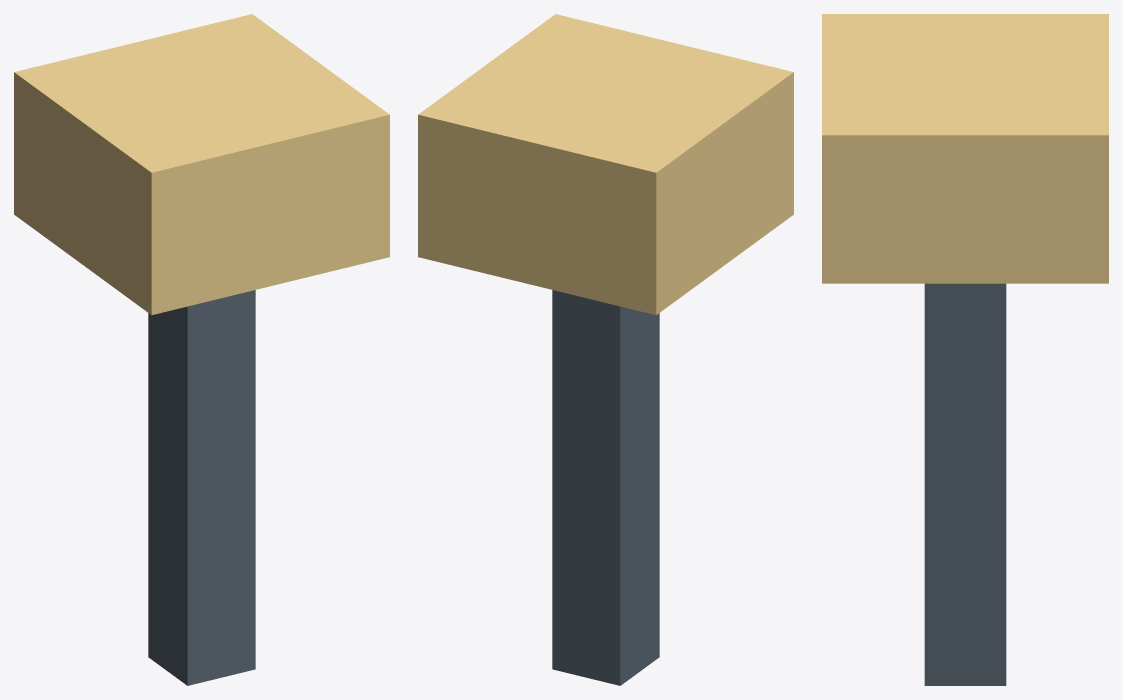
File: demo.glb
The picture shows the model from 3 angles, left to right: view 1: azimuth 30°, elevation 25°; view 2: azimuth 150°, elevation 25°; view 3: azimuth 270°, elevation 25°; orthographic projection. The views are drawn at different scales.
Visible parts, largest first — view 1: Demo_Lamp; view 2: Demo_Lamp; view 3: Demo_Lamp.
Boxes of the visible parts, left/top/right/bottom form: Demo_Lamp: left=14, top=14, right=389, bottom=685; Demo_Lamp: left=418, top=14, right=793, bottom=685; Demo_Lamp: left=822, top=14, right=1108, bottom=685.
Size of what is drawn, in the model's own units: 35 by 80 by 35.
